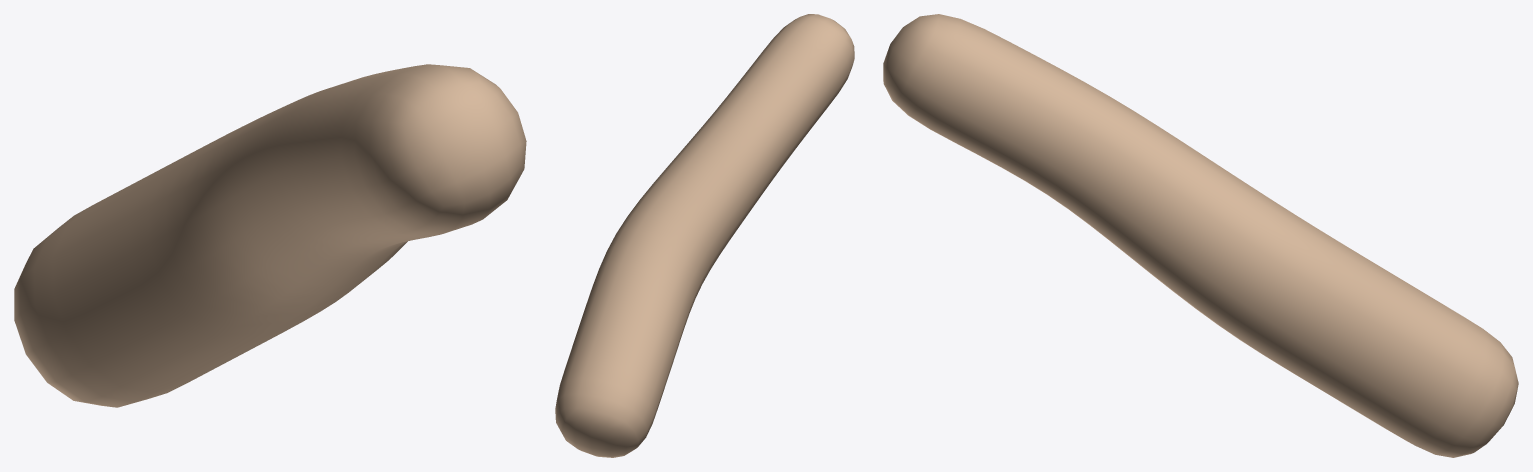
3 views of the same model, side by side, from view 1: azimuth 30°, elevation 25°; view 2: azimuth 150°, elevation 25°; view 3: azimuth 270°, elevation 25° (orthographic). The views are drawn at different scales.
Visible parts, largest first — view 1: 左侧尺侧腕伸肌腱鞘; view 2: 左侧尺侧腕伸肌腱鞘; view 3: 左侧尺侧腕伸肌腱鞘.
Part boxes in pixels (left/top/right/bottom): 左侧尺侧腕伸肌腱鞘: left=14, top=64, right=526, bottom=407; 左侧尺侧腕伸肌腱鞘: left=555, top=14, right=854, bottom=457; 左侧尺侧腕伸肌腱鞘: left=883, top=14, right=1518, bottom=457.
Bounding box in the file's own units: 0.0106 × 0.0265 × 0.0366.
